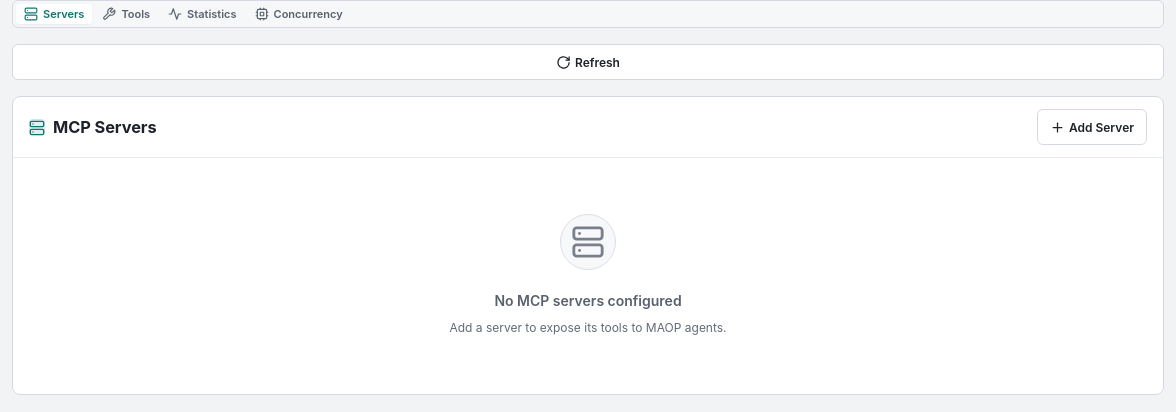
McpManager.vue › renders concurrency table when tools exist
The image size is (1176, 412).
Switch to concurrency tab (index 3)
Click the radio button with class "segmented__item" showing "Concurrency": (299, 14) [246,4,351,24]
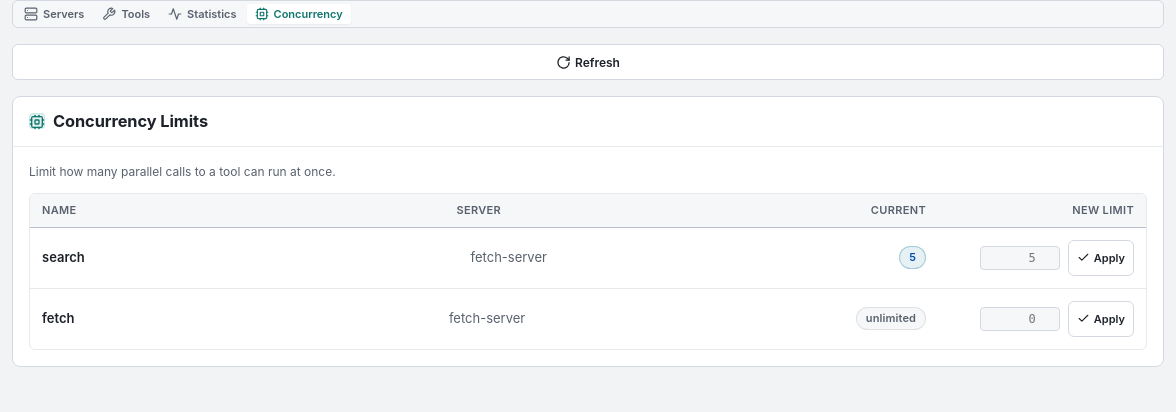
Expected: the number of rows with class "conc-table__row" is 2, [30,228,1146,289]; [30,289,1146,349]
